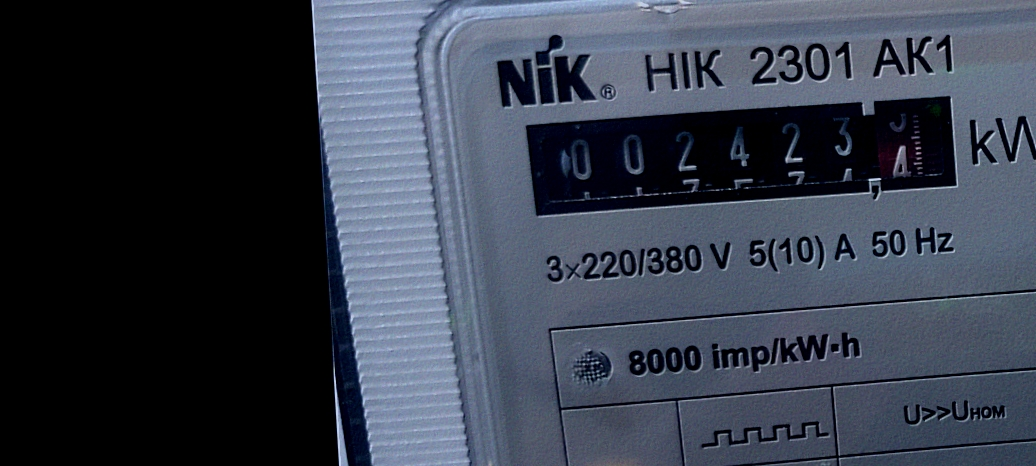0: (568, 135, 597, 185), (621, 132, 649, 178)
2: (672, 127, 701, 175), (780, 120, 806, 167)
3: (831, 114, 857, 160), (888, 111, 911, 135)
4: (727, 124, 752, 171), (888, 142, 915, 180)
screen: (516, 85, 972, 229)
